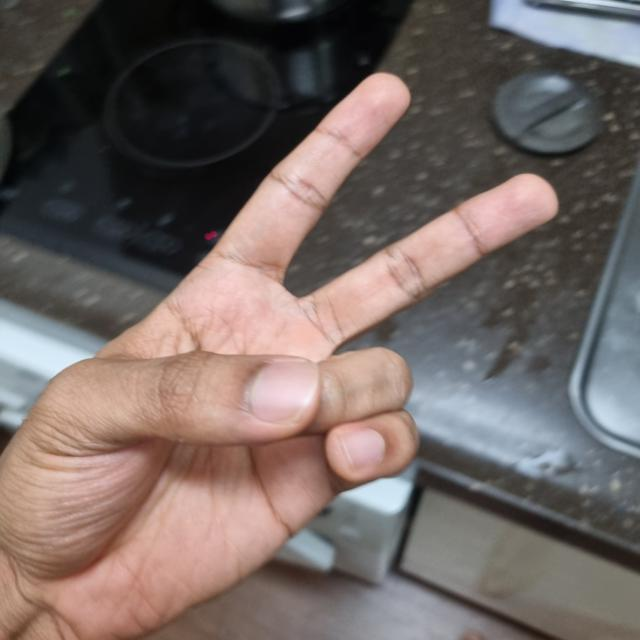Scissors: (4, 80, 552, 633)
